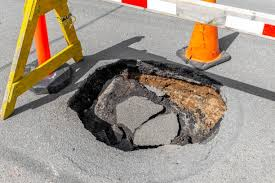pothole: (76, 58, 231, 153)
